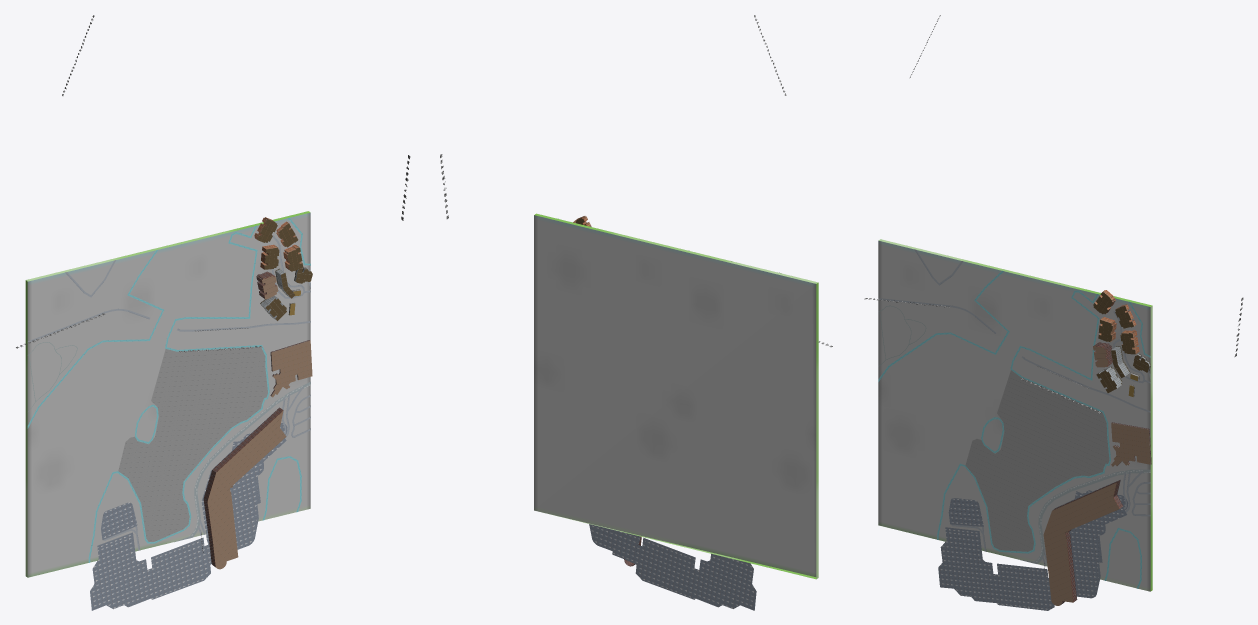
3 renders of one model, left to right at view 1: azimuth 30°, elevation 25°; view 2: azimuth 150°, elevation 25°; view 3: azimuth 330°, elevation 25°, orthographic. The views are drawn at different scales.
Parts seen in each view (by area): view 1: POLYGON, BUILDING, POLYLINE; view 2: POLYGON; view 3: POLYGON, BUILDING, POLYLINE.
Boxes of the visible parts, x1,y1,x2,y2 form: POLYGON: [25, 211, 310, 610]; BUILDING: [203, 217, 312, 569]; POLYLINE: [27, 217, 310, 562]; POLYGON: [534, 213, 818, 610]; POLYGON: [878, 239, 1152, 610]; BUILDING: [1043, 290, 1151, 605]; POLYLINE: [878, 249, 1150, 588].
Size of the model in its own units: 850 by 1242 by 29.
3 materials, 3 textured.
